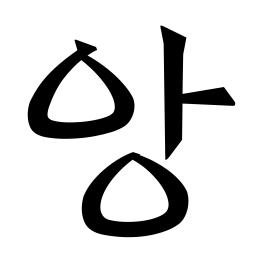Gaji: (153, 78, 196, 120)
